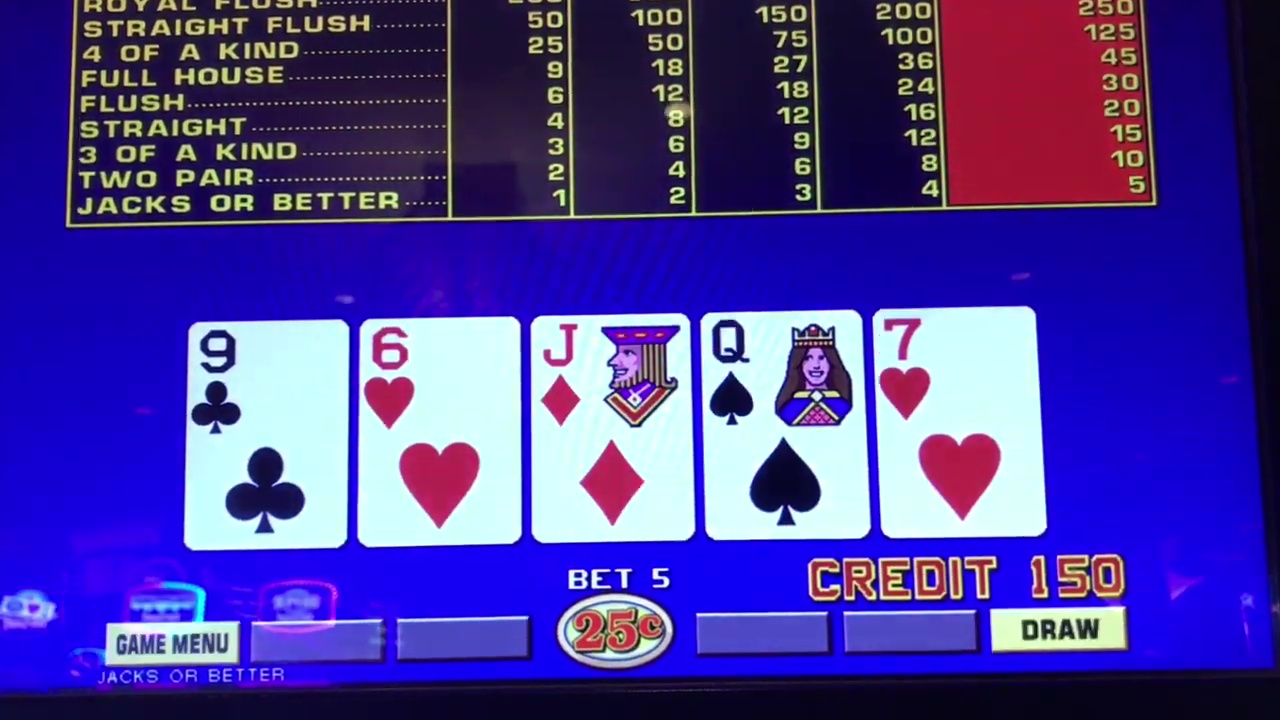C9: (190, 320, 343, 434)
DJ: (537, 316, 689, 425)
H6: (363, 319, 516, 429)
H7: (880, 310, 1034, 422)
SQ: (705, 314, 864, 423)
